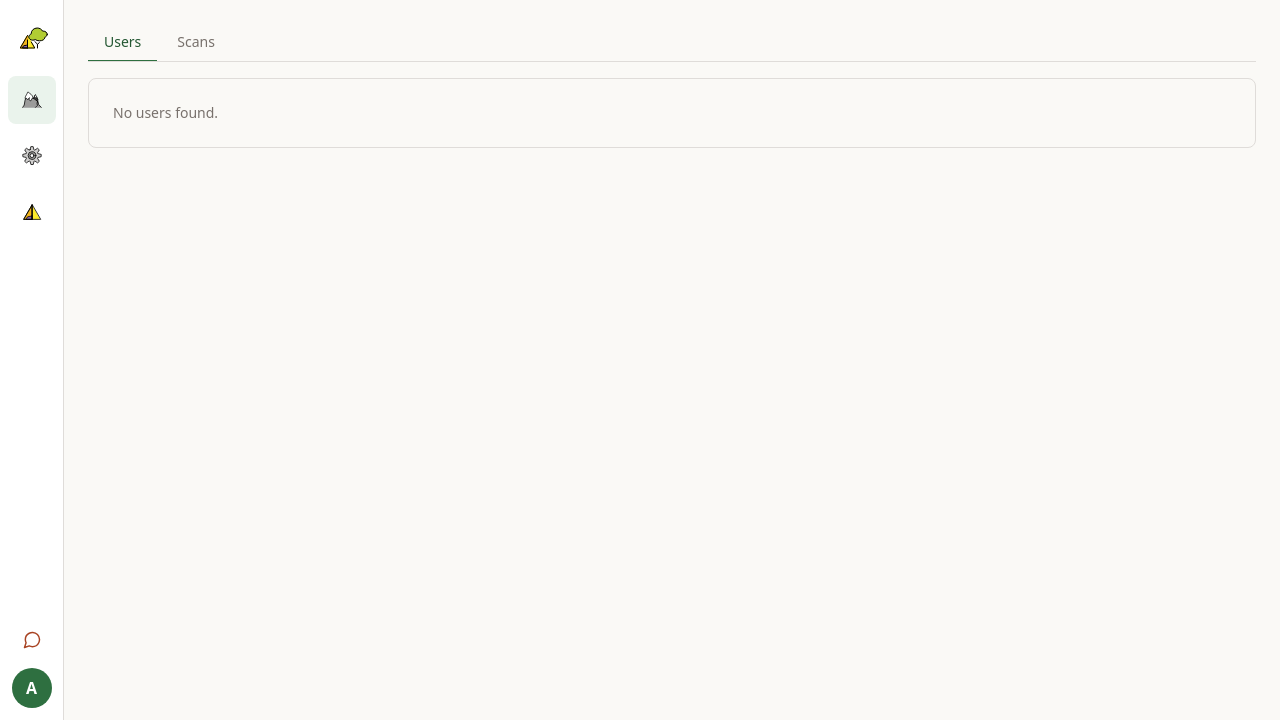
Scenario: AdminPage › switches to the Scans tab on click
The image size is (1280, 720).
Click the tab "Scans": (196,43) [161,24,231,62]
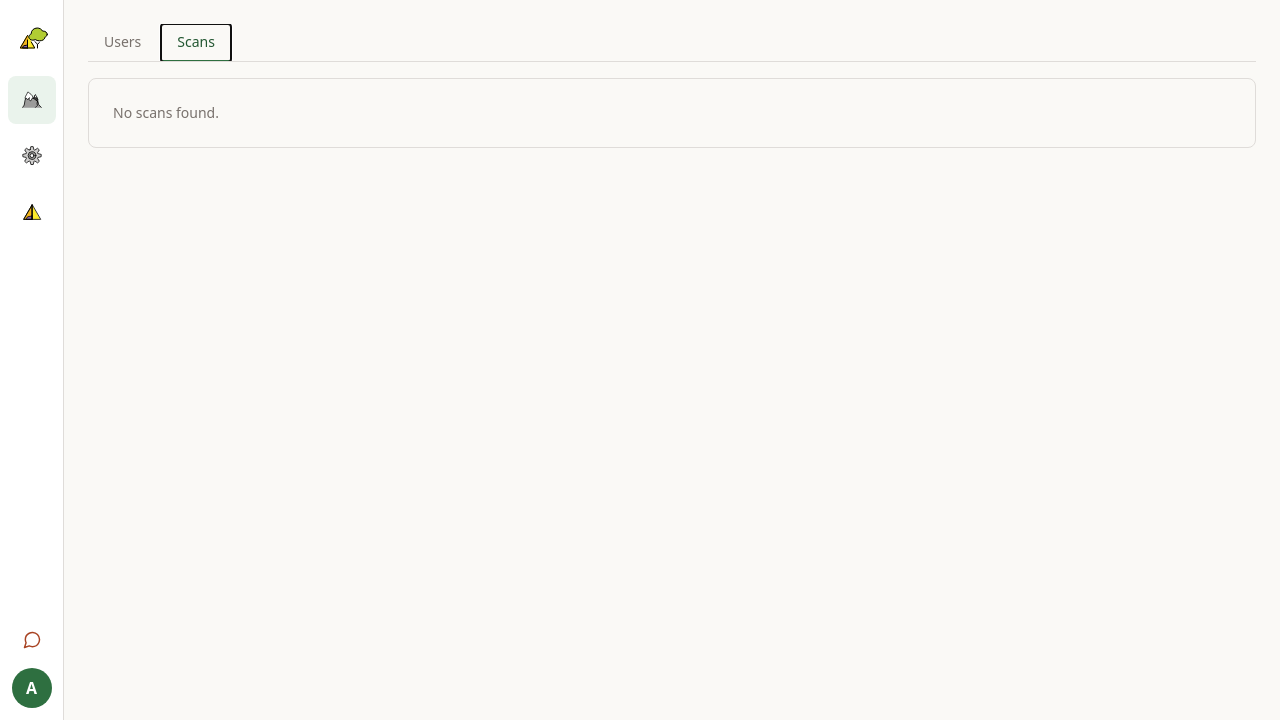
Result: the text "No scans found." is shown at [113,103,219,122]
